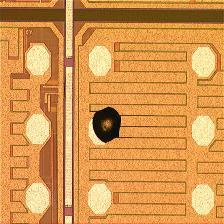PARTICLE: (94, 107, 125, 145)
